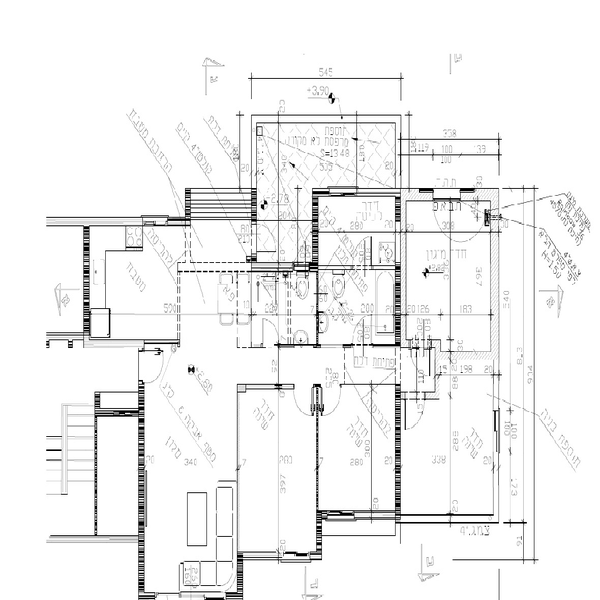door: (291, 369, 347, 419), (137, 346, 177, 388), (404, 384, 430, 440), (341, 310, 369, 355), (252, 317, 283, 352), (408, 341, 436, 376)
wall: (133, 369, 153, 599), (488, 182, 507, 365), (390, 378, 406, 514), (81, 224, 97, 344), (308, 184, 327, 273), (249, 183, 267, 257), (432, 348, 492, 369), (392, 264, 407, 344), (242, 254, 297, 274), (314, 508, 330, 560), (239, 384, 300, 396), (231, 557, 247, 600), (384, 187, 407, 216), (181, 177, 193, 228)
window: (490, 408, 515, 452), (317, 181, 358, 200), (142, 208, 168, 232), (331, 503, 358, 523)
